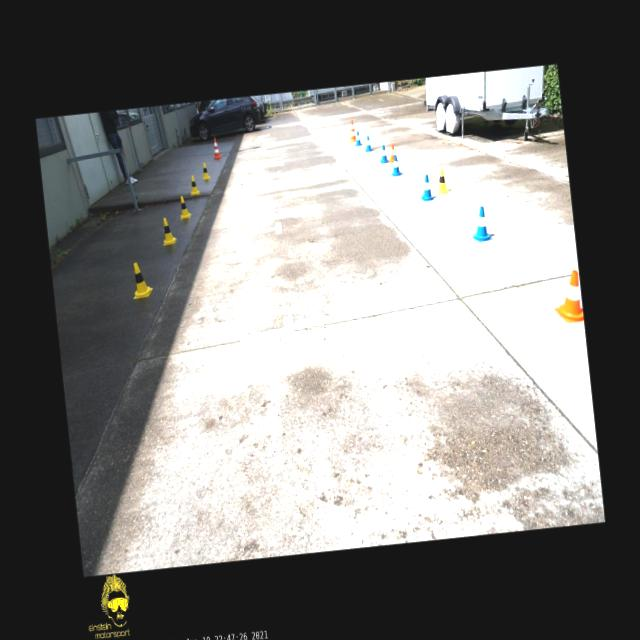blue_cone: (470, 205, 492, 241), (418, 173, 433, 201), (388, 155, 402, 176), (378, 144, 388, 163), (363, 134, 372, 152), (354, 130, 361, 146)
large_orange_cone: (211, 137, 221, 159), (348, 118, 356, 141)
orange_cone: (551, 270, 583, 322), (388, 144, 394, 162)
yellow_cone: (129, 262, 153, 298), (160, 218, 177, 245), (432, 168, 448, 194), (177, 194, 191, 218), (188, 174, 199, 194), (200, 162, 210, 180)
